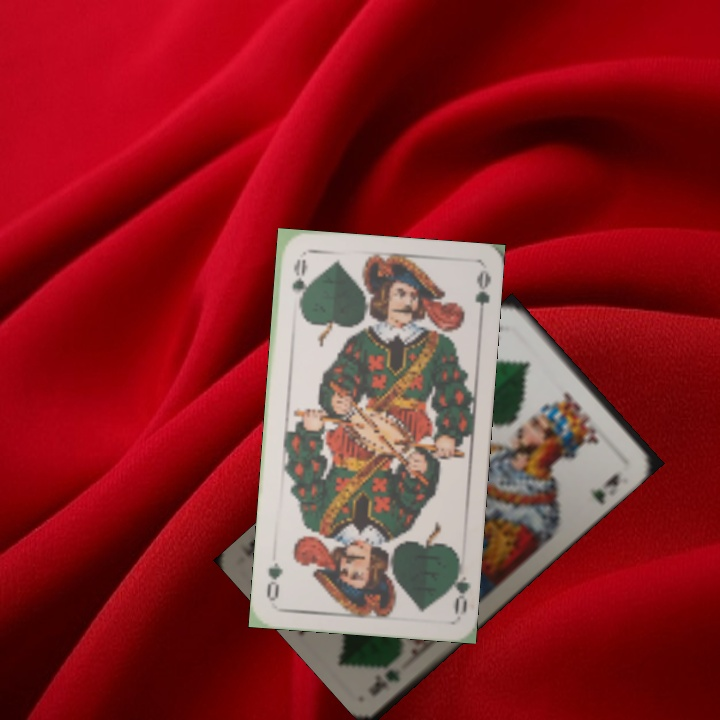GK: (364, 665, 404, 699)
GO: (444, 557, 472, 616), (288, 255, 309, 314)
